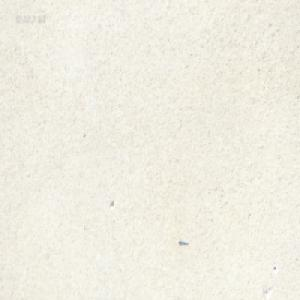Nail: (178, 238, 188, 245)
